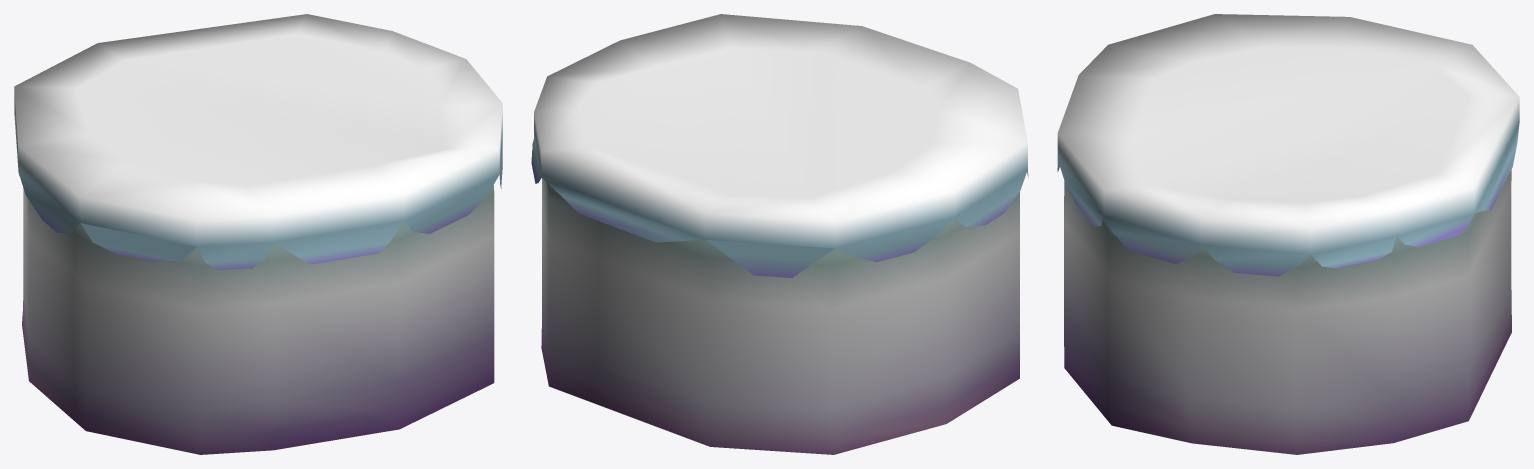
The model's file is Block_02_H1_grass.fbx.
3 views of the same model, side by side, from view 1: azimuth 30°, elevation 25°; view 2: azimuth 150°, elevation 25°; view 3: azimuth 270°, elevation 25° (orthographic).
Parts seen in each view (by area): view 1: Rock-Base-col.004, Rock-Base-col.003; view 2: Rock-Base-col.004, Rock-Base-col.003; view 3: Rock-Base-col.004, Rock-Base-col.003.
Boxes of the visible parts, <box> form: Rock-Base-col.004: <box>14,14,502,270</box>; Rock-Base-col.003: <box>22,185,494,454</box>; Rock-Base-col.004: <box>531,14,1028,277</box>; Rock-Base-col.003: <box>541,178,1019,454</box>; Rock-Base-col.004: <box>1057,14,1519,276</box>; Rock-Base-col.003: <box>1064,170,1511,454</box>.
Size of the model in its own units: 403 by 210 by 373.
